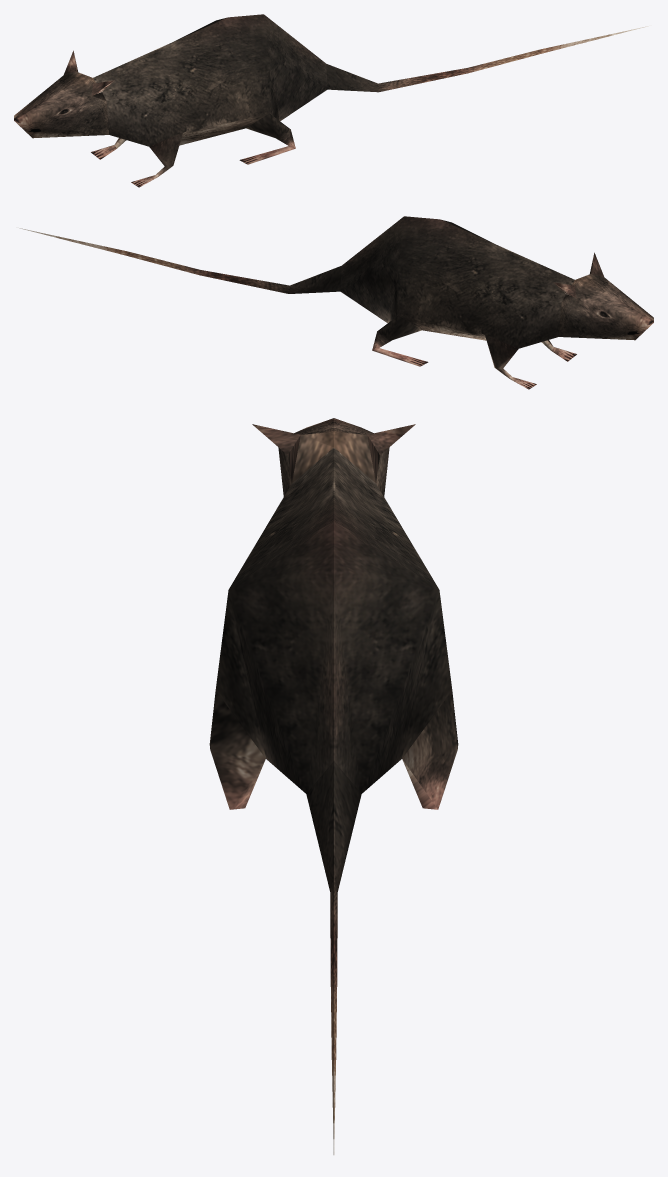
Rendered from mouse.glb.
The picture shows the model from 3 angles, top to bottom: view 1: azimuth 30°, elevation 25°; view 2: azimuth 150°, elevation 25°; view 3: azimuth 270°, elevation 25°; orthographic projection. The views are drawn at different scales.
Visible parts, largest first — view 1: org_mouse; view 2: org_mouse; view 3: org_mouse.
Boxes of the visible parts, x1=… form: org_mouse: x1=14, y1=14, x2=648, y2=187; org_mouse: x1=19, y1=216, x2=653, y2=389; org_mouse: x1=209, y1=418, x2=458, y2=1154.
Bounding box in the file's own units: 0.5819 × 0.11 × 0.0979.
1 material, 1 textured.
